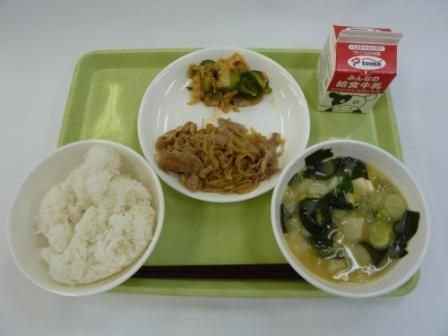Meat: (167, 113, 275, 195)
Milk: (307, 21, 420, 124)
Rice: (9, 140, 157, 294)
Salad: (185, 48, 266, 117)
Soups: (272, 149, 415, 286)
